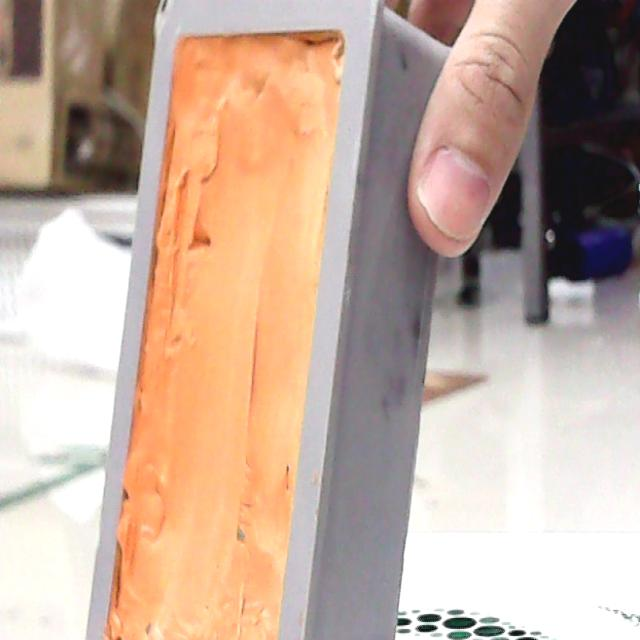block: (77, 0, 490, 640)
